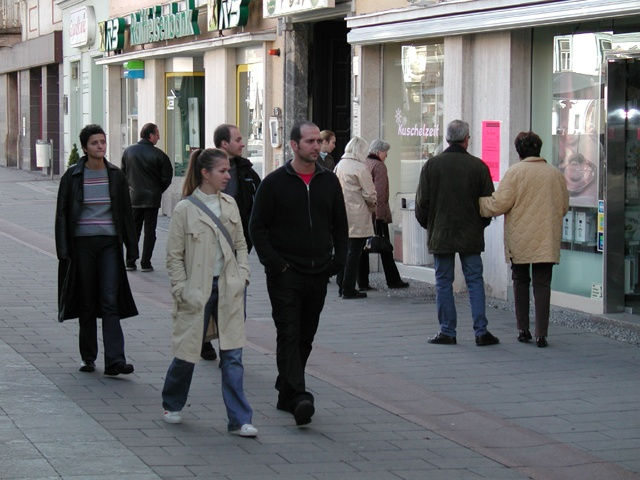person: (245, 117, 349, 432), (156, 145, 259, 439), (56, 124, 141, 377), (412, 114, 495, 347), (500, 129, 556, 347)
